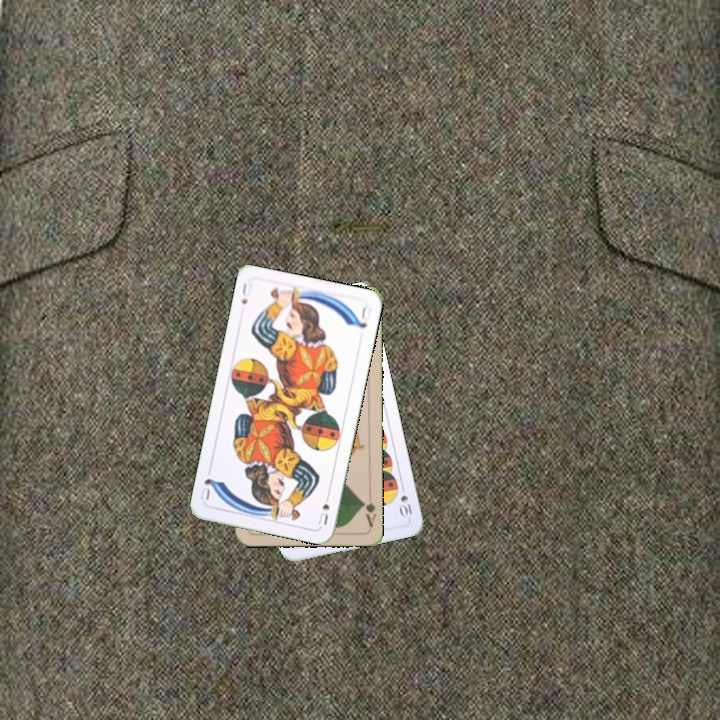GA: (358, 497, 378, 530)
S10: (396, 480, 415, 520)
SU: (314, 488, 332, 527), (237, 278, 255, 307)
